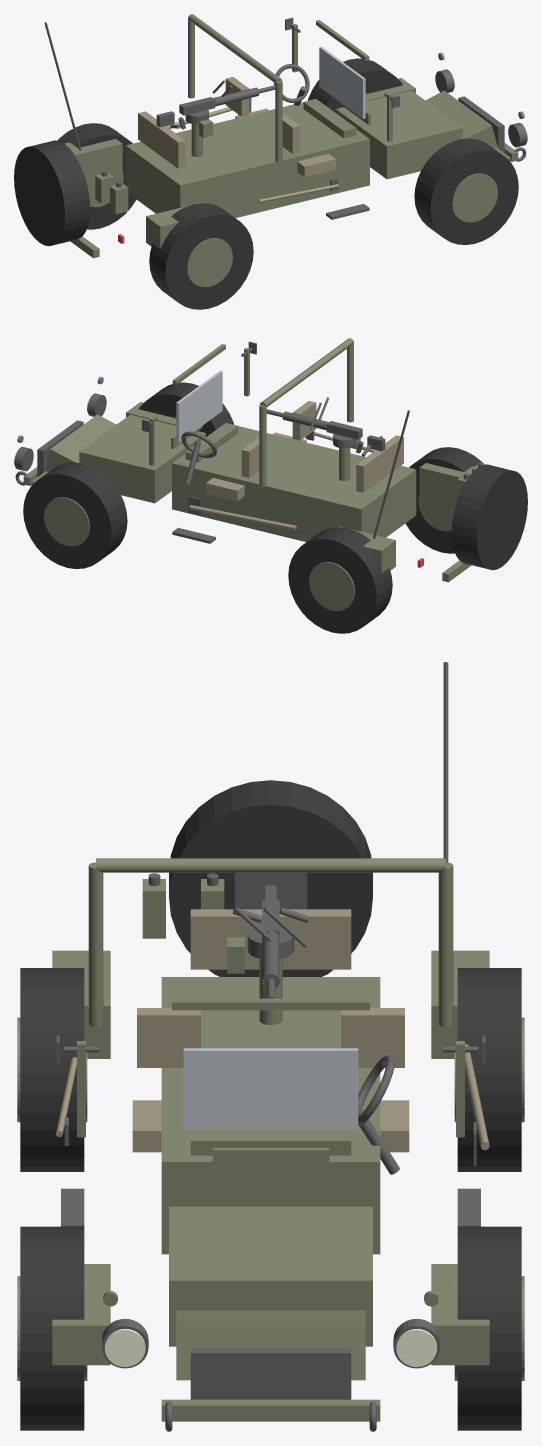
File: m151_mutt_gun_jeep.glb
3 views of the same model, one above another, from view 1: azimuth 30°, elevation 25°; view 2: azimuth 150°, elevation 25°; view 3: azimuth 270°, elevation 25° (orthographic). The views are drawn at different scales.
Visible parts, largest first — view 1: Body, Tire_Front_R, Tire_Rear_R, Spare_Tire, Hood, Windshield_Glass, Tire_Rear_L, Hub_Front_R, Hub_Rear_R, Hood_Front, Rear_Seat_Back, Tire_Front_L (+22 smaller); view 2: Body, Tire_Front_L, Tire_Rear_L, Spare_Tire, Hood, Tire_Rear_R, Windshield_Glass, Hub_Front_L, Hub_Rear_L, Hood_Front, Tire_Front_R, Rear_Seat_Back (+22 smaller); view 3: Body, Hood, Spare_Tire, Windshield_Glass, Tire_Front_L, Tire_Front_R, Tire_Rear_R, Tire_Rear_L, Grille, Hood_Front, Rear_Seat_Back, Rollbar_Top (+26 smaller).
Part boxes in pixels (x1,y1,x2,y2): Body: (125,102,369,217); Tire_Front_R: (414,138,518,244); Tire_Rear_R: (149,203,253,309); Spare_Tire: (14,140,90,246); Hood: (336,90,462,179); Windshield_Glass: (319,46,365,118); Tire_Rear_L: (57,123,136,229); Hub_Front_R: (452,173,497,222); Hub_Rear_R: (186,238,232,287); Hood_Front: (425,90,497,147); Rear_Seat_Back: (138,111,185,168); Tire_Front_L: (308,58,402,112); Body: (172,426,416,541); Tire_Front_L: (23,462,127,568); Tire_Rear_L: (288,527,392,633); Spare_Tire: (451,464,527,570); Hood: (79,414,205,503); Tire_Rear_R: (405,447,484,553); Windshield_Glass: (176,370,222,442); Hub_Front_L: (44,497,89,546); Hub_Rear_L: (309,562,355,611); Hood_Front: (44,414,116,471); Tire_Front_R: (139,382,233,436); Rear_Seat_Back: (356,435,403,492); Body: (161,977,380,1254); Hood: (169,1206,372,1346); Spare_Tire: (169,780,372,976); Windshield_Glass: (183,1048,358,1129); Tire_Front_L: (457,1226,521,1430); Tire_Front_R: (20,1226,84,1430); Tire_Rear_R: (20,968,84,1171); Tire_Rear_L: (457,968,521,1171); Grille: (190,1347,351,1399); Hood_Front: (176,1310,365,1380); Rear_Seat_Back: (190,909,351,969); Rollbar_Top: (96,858,445,872).
Size of the model in its own units: 3.65 by 1.68 by 1.74.
